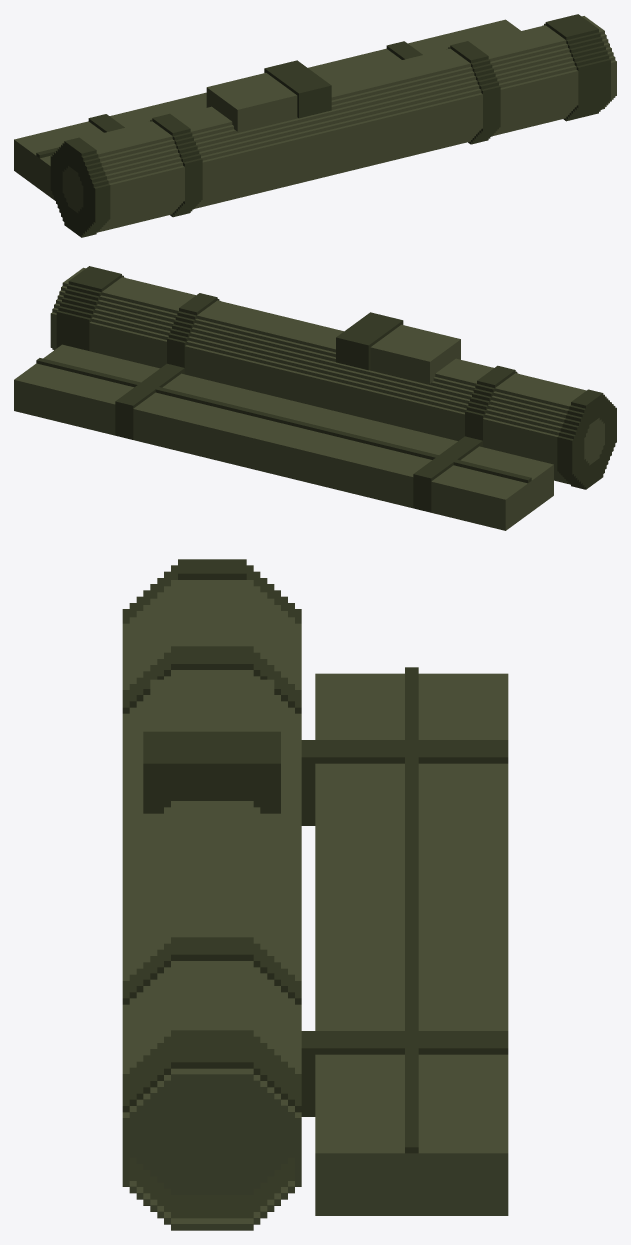
File: quiver_takedown_bow.glb
3 views of the same model, one above another, from view 1: azimuth 30°, elevation 25°; view 2: azimuth 150°, elevation 25°; view 3: azimuth 270°, elevation 25° (orthographic). The views are drawn at different scales.
Parts seen in each view (by area): view 1: quiver_takedown_bow:compound; view 2: quiver_takedown_bow:compound; view 3: quiver_takedown_bow:compound.
Part boxes in pixels (<box>): quiver_takedown_bow:compound: <box>14,14,616,237</box>; quiver_takedown_bow:compound: <box>14,266,616,530</box>; quiver_takedown_bow:compound: <box>122,559,508,1230</box>.
Bounding box in the file's own units: 0.7 × 0.128 × 0.224.
